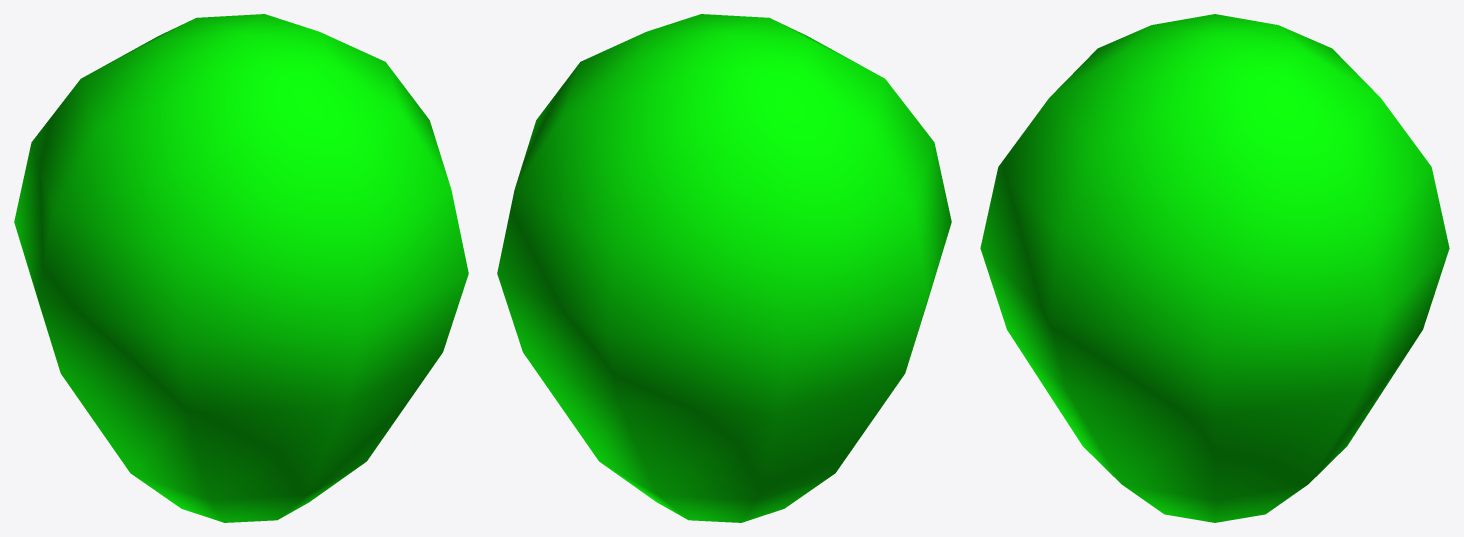
File: SM_G_Ballon.fbx
3 renders of one model, left to right at view 1: azimuth 30°, elevation 25°; view 2: azimuth 150°, elevation 25°; view 3: azimuth 270°, elevation 25°, orthographic.
Parts seen in each view (by area): view 1: SM_G_Ballon; view 2: SM_G_Ballon; view 3: SM_G_Ballon.
Part boxes in pixels (x1,y1,x2,y2): SM_G_Ballon: (14,14,468,522); SM_G_Ballon: (497,14,951,522); SM_G_Ballon: (980,14,1449,522).
Bounding box in the file's own units: 27.96 × 30.36 × 27.96.
